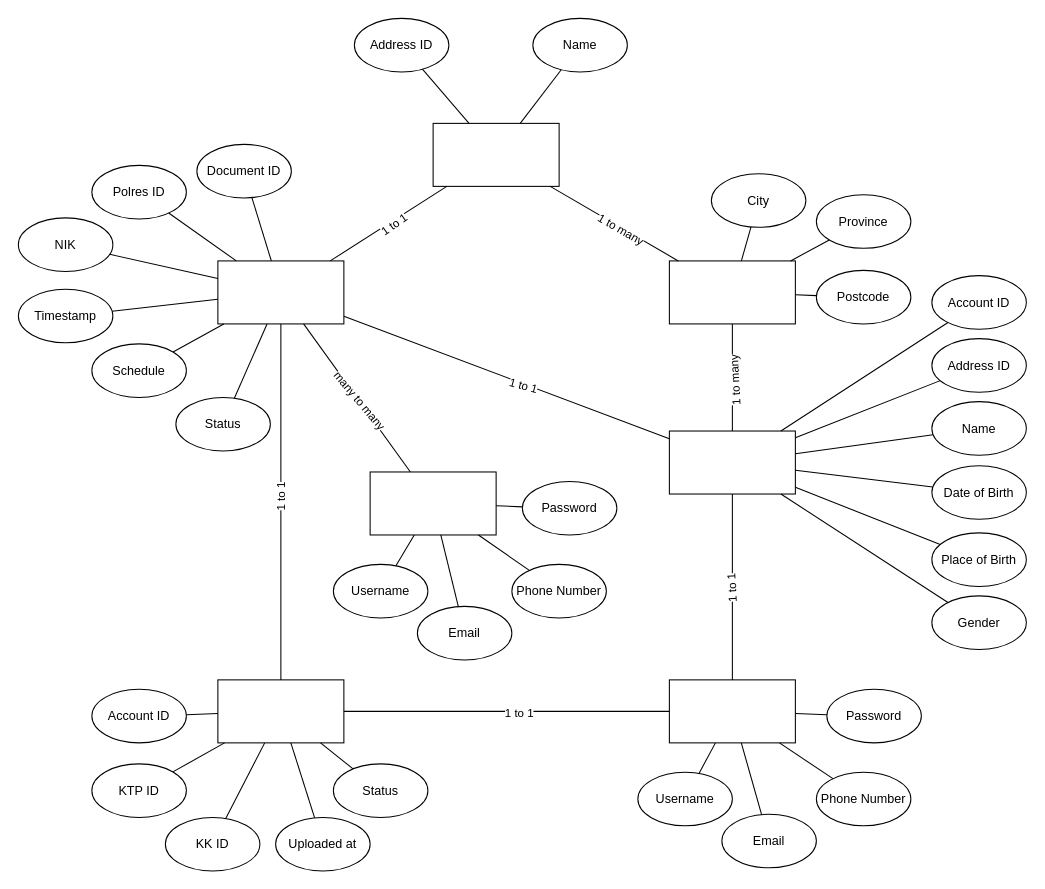
Some shapes in this 1045 by 889 pixel diagram are drawn without their labels. The shapes that lost their labels are listed below. From the top down, each one's centre as x and y in pixels, then its label:
(x=495, y=154): POLRES
(x=280, y=292): REQUEST
(x=731, y=292): ADDRESS
(x=731, y=462): PERSON
(x=432, y=503): ADMIN
(x=280, y=711): DOCUMENT
(x=731, y=711): ACCOUNT
